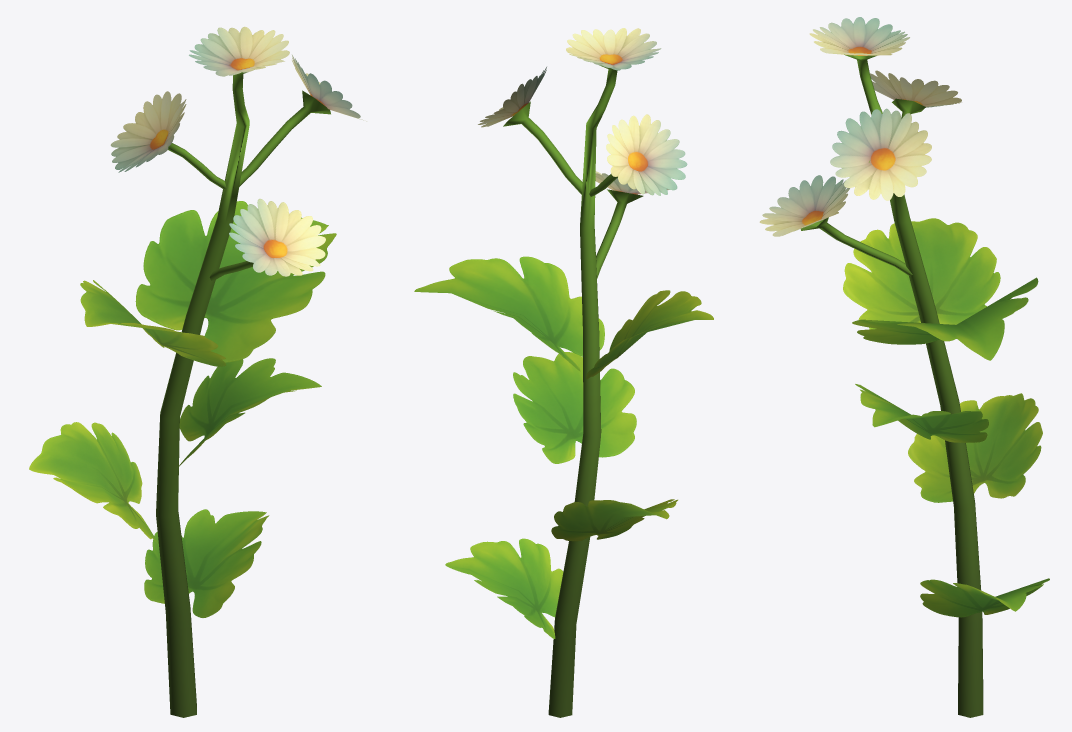
The picture shows the model from 3 angles, left to right: view 1: azimuth 30°, elevation 25°; view 2: azimuth 150°, elevation 25°; view 3: azimuth 270°, elevation 25°; orthographic projection. The views are drawn at different scales.
Visible parts, largest first — view 1: pl-daisy; view 2: pl-daisy; view 3: pl-daisy.
Part boxes in pixels (x1=…): pl-daisy: x1=29, y1=26, x2=366, y2=717; pl-daisy: x1=414, y1=28, x2=713, y2=717; pl-daisy: x1=759, y1=17, x2=1049, y2=717.
Size of the model in its own units: 0.6097 by 1.34 by 0.5378.
Materials: 1 (1 with a texture image).
